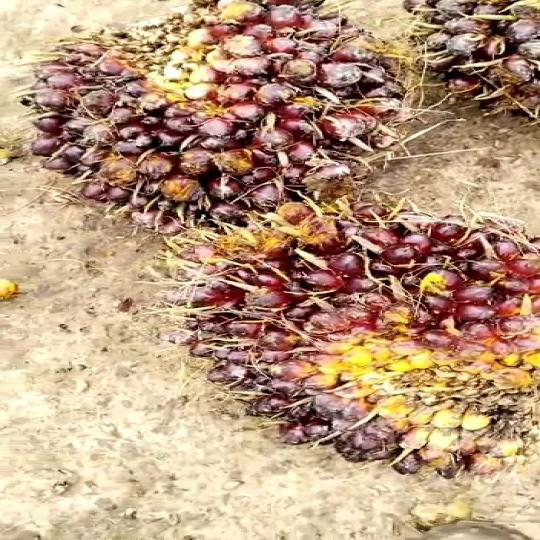kurang masak: (168, 206, 540, 483), (19, 0, 438, 226)
